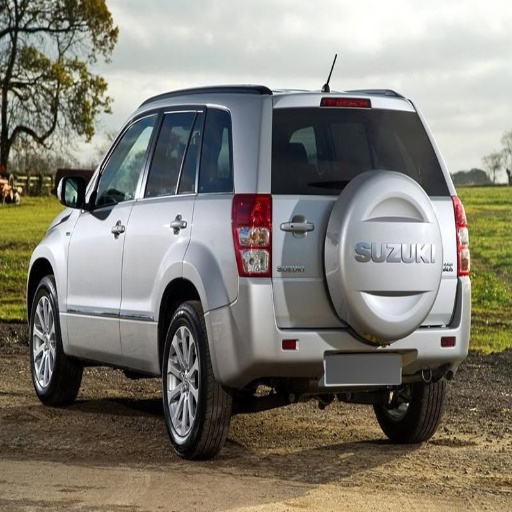back_bumper: (207, 277, 461, 386)
back_left_door: (119, 106, 222, 354)
tailgate: (272, 195, 448, 324)
trunk: (281, 173, 409, 225)
